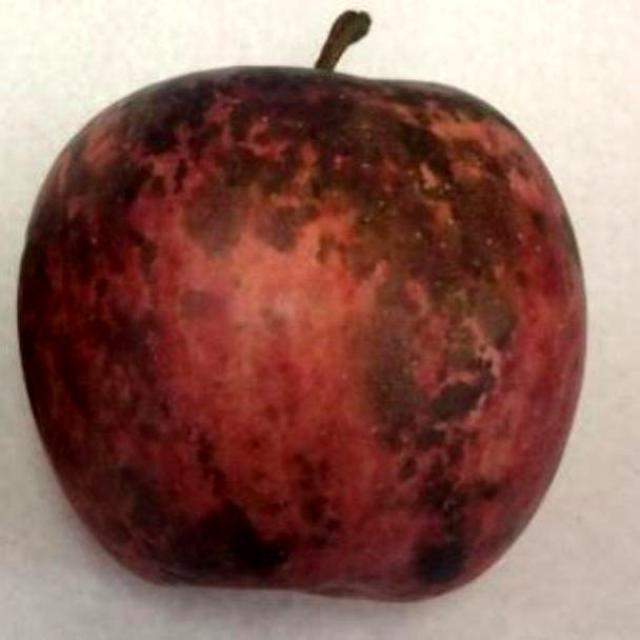BLOTCH: (8, 33, 600, 624)
